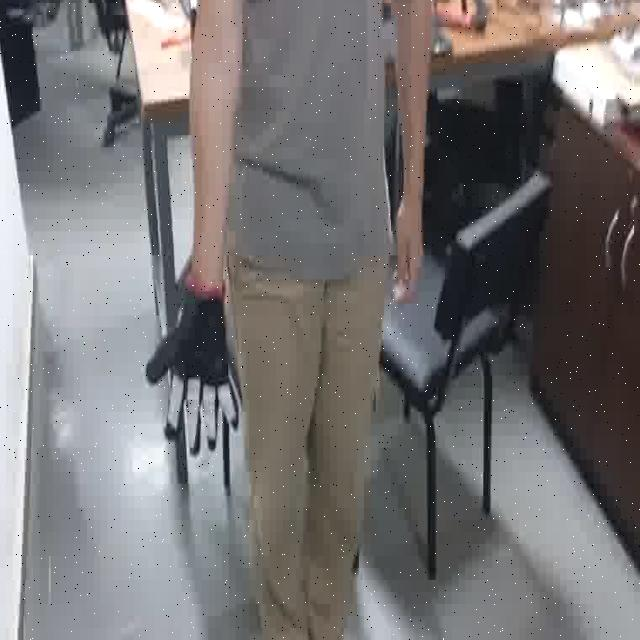Gloves: (149, 259, 251, 476)
